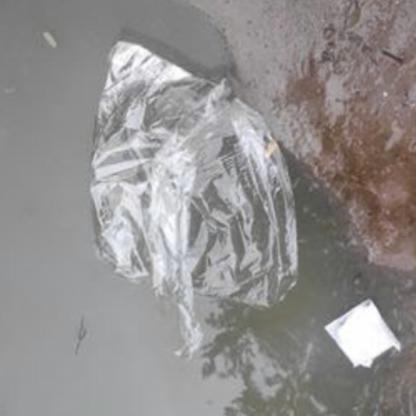Trash: (86, 42, 299, 327), (324, 296, 402, 371)
